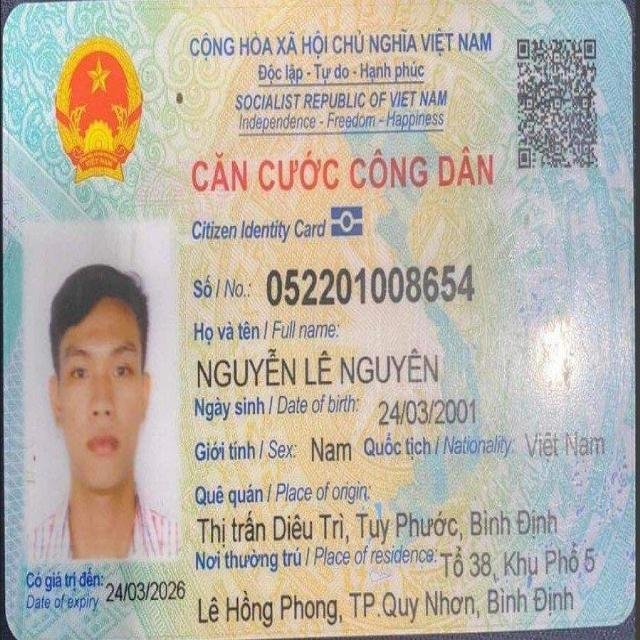current_place: (192, 581, 579, 629), (437, 542, 600, 588)
dob: (375, 392, 480, 431)
expire_date: (103, 573, 190, 608)
gender: (309, 431, 355, 468)
id: (262, 259, 481, 314)
name: (192, 341, 445, 392)
nationality: (522, 426, 610, 466)
origin_place: (193, 502, 564, 547)
qr: (512, 30, 608, 179)
